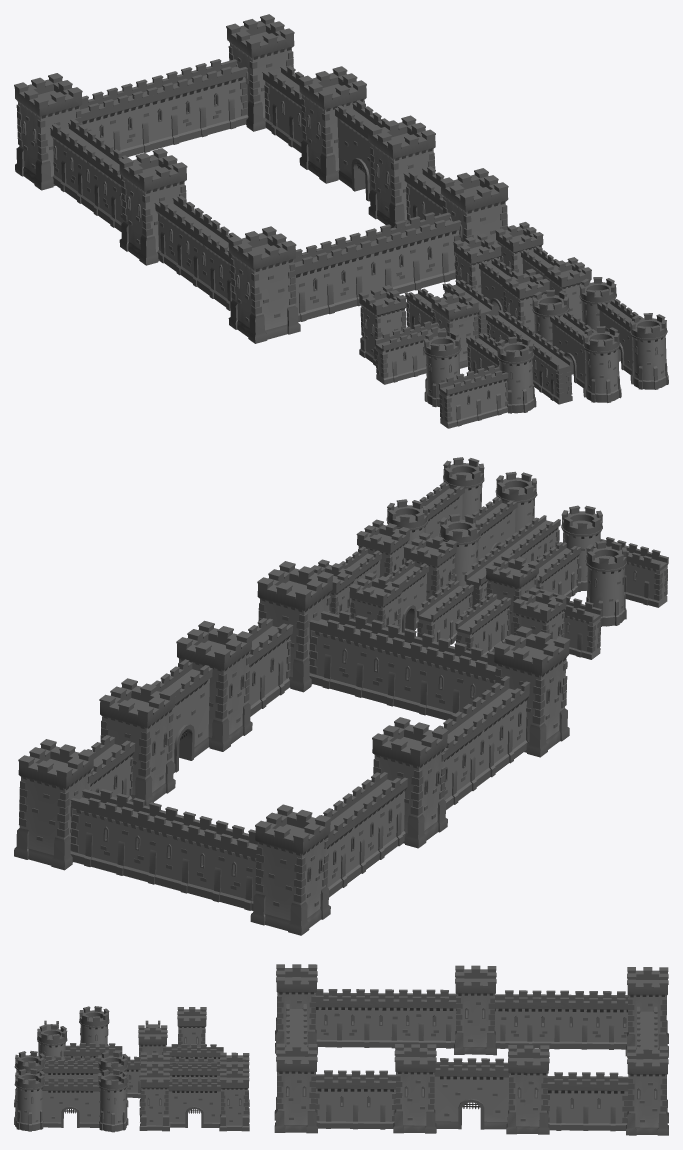
Rendered from castelo_kit.glb.
3 renders of one model, top to bottom at view 1: azimuth 30°, elevation 25°; view 2: azimuth 150°, elevation 25°; view 3: azimuth 270°, elevation 25°, orthographic. The views are drawn at different scales.
Parts seen in each view (by area): view 1: PreviewOnly, Corer_2, Corner_1, Gate_2_Open, Gate_2, Gate_1_Open, Gate_1, Wall_Double, Tower_1, Tower_2, Wall_Single; view 2: PreviewOnly, Corner_1, Corer_2, Gate_1_Open, Gate_2_Open, Gate_2, Gate_1, Tower_2, Wall_Double, Wall_Single, Tower_1; view 3: PreviewOnly, Gate_2, Gate_1, Gate_2_Open, Gate_1_Open, Corner_1, Corer_2, Tower_1, Tower_2, Wall_Double, Wall_Single.
Boxes of the visible parts, x1,y1,x2,y2 form: PreviewOnly: (14,14,508,343); Corer_2: (438,333,536,428); Corner_1: (375,288,478,384); Gate_2_Open: (532,289,621,402); Gate_2: (579,277,668,389); Gate_1_Open: (453,233,549,334); Gate_1: (495,222,591,321); Wall_Double: (485,310,572,404); Tower_1: (358,285,406,365); Tower_2: (423,330,461,407); Wall_Single: (442,279,493,337); PreviewOnly: (14,561,570,935); Corner_1: (455,553,601,659); Corer_2: (536,505,668,607); Gate_1_Open: (349,532,457,632); Gate_2_Open: (439,471,537,586); Gate_2: (386,457,484,544); Gate_1: (311,519,410,615); Tower_2: (585,540,626,626); Wall_Double: (464,515,560,609); Wall_Single: (416,580,473,644); Tower_1: (513,587,566,661); PreviewOnly: (274,964,668,1135); Gate_2: (14,1068,128,1132); Gate_1: (139,1068,249,1131); Gate_2_Open: (14,1051,128,1107); Gate_1_Open: (139,1052,249,1114); Corner_1: (138,1020,223,1060); Corer_2: (37,1020,122,1059); Tower_1: (177,1007,206,1046); Tower_2: (79,1006,109,1045); Wall_Double: (44,1056,141,1098); Wall_Single: (169,1057,220,1064).
Size of the model in its own units: 53.88 by 19.27 by 141.
1 material, 1 textured.
